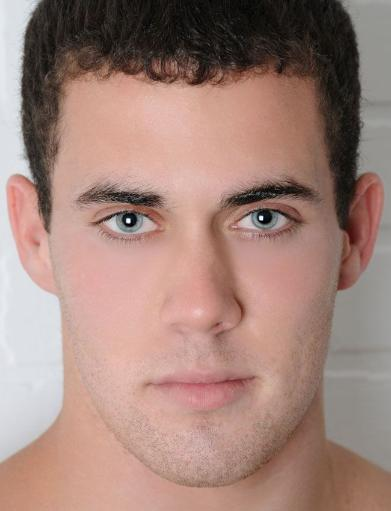left_eye: (225, 205, 305, 242)
left_lip_corner: (240, 368, 267, 390)
right_eye: (85, 208, 168, 245)
right_lip_corner: (140, 373, 168, 397)
